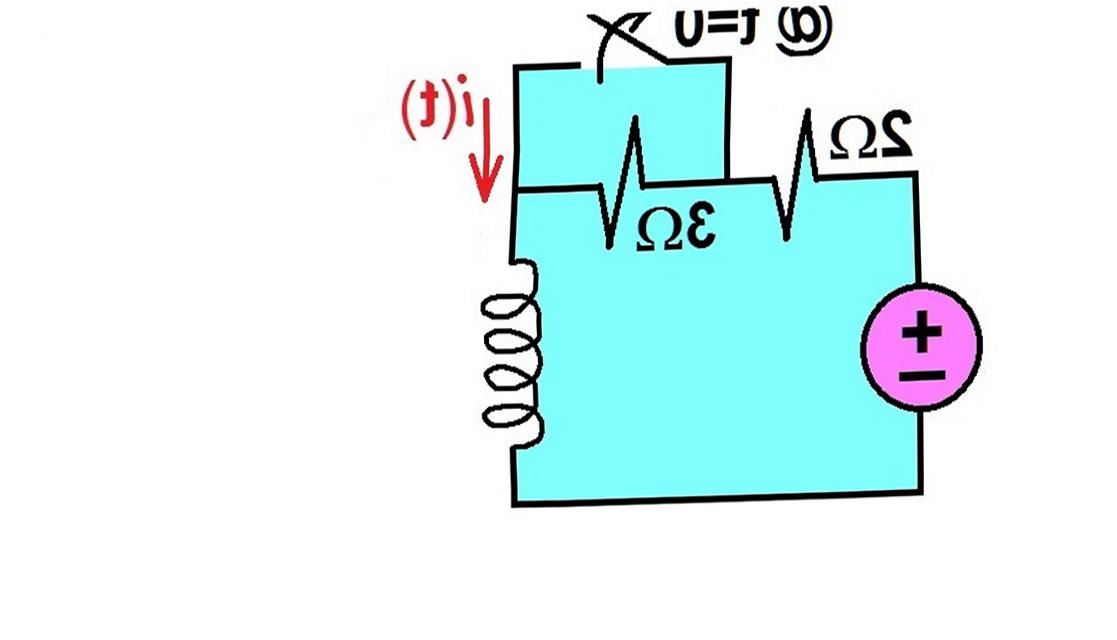Battery: (841, 260, 1003, 431)
